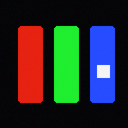1 square: (97, 65, 109, 77)
